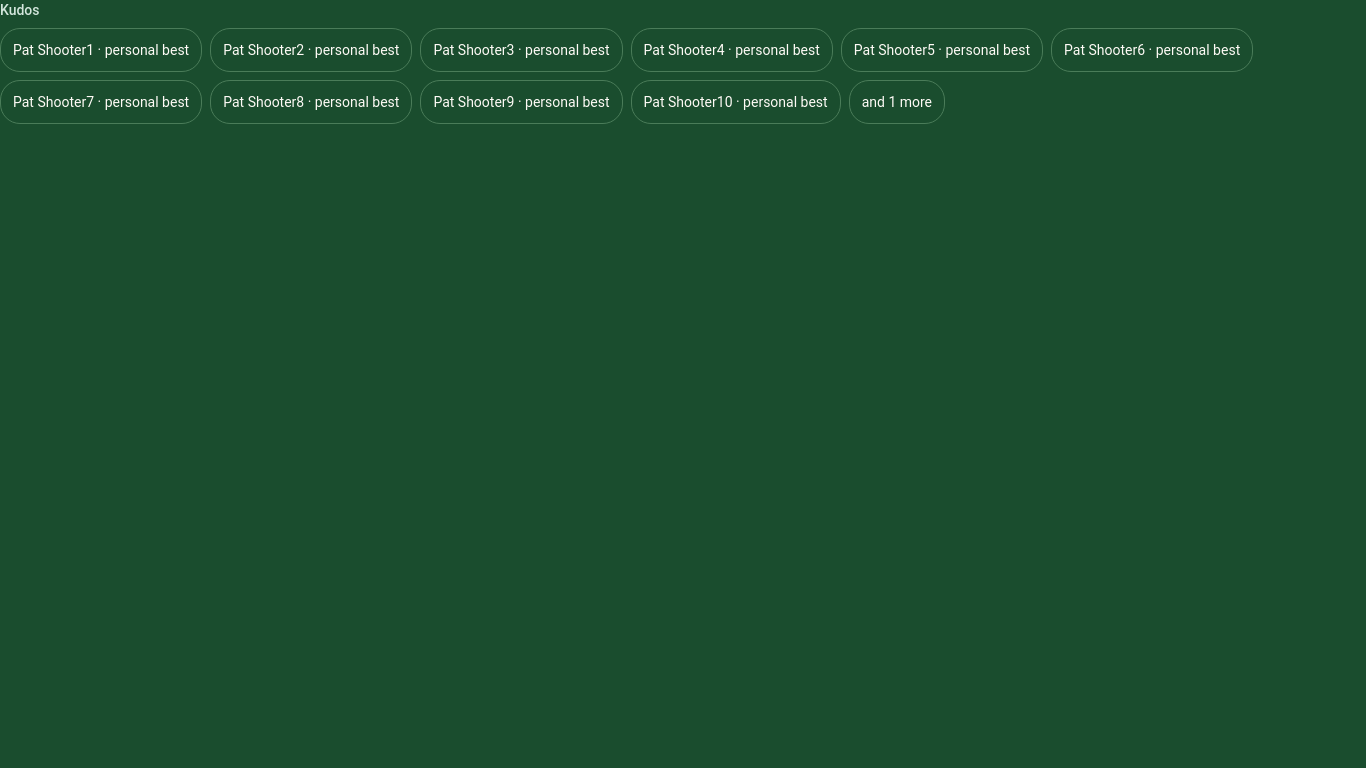
Scenario: KudosStrip › closes the full list
The width and height of the screenshot is (1366, 768).
Click the button "and 1 more": coordinates (897, 102) [849,80,945,124]
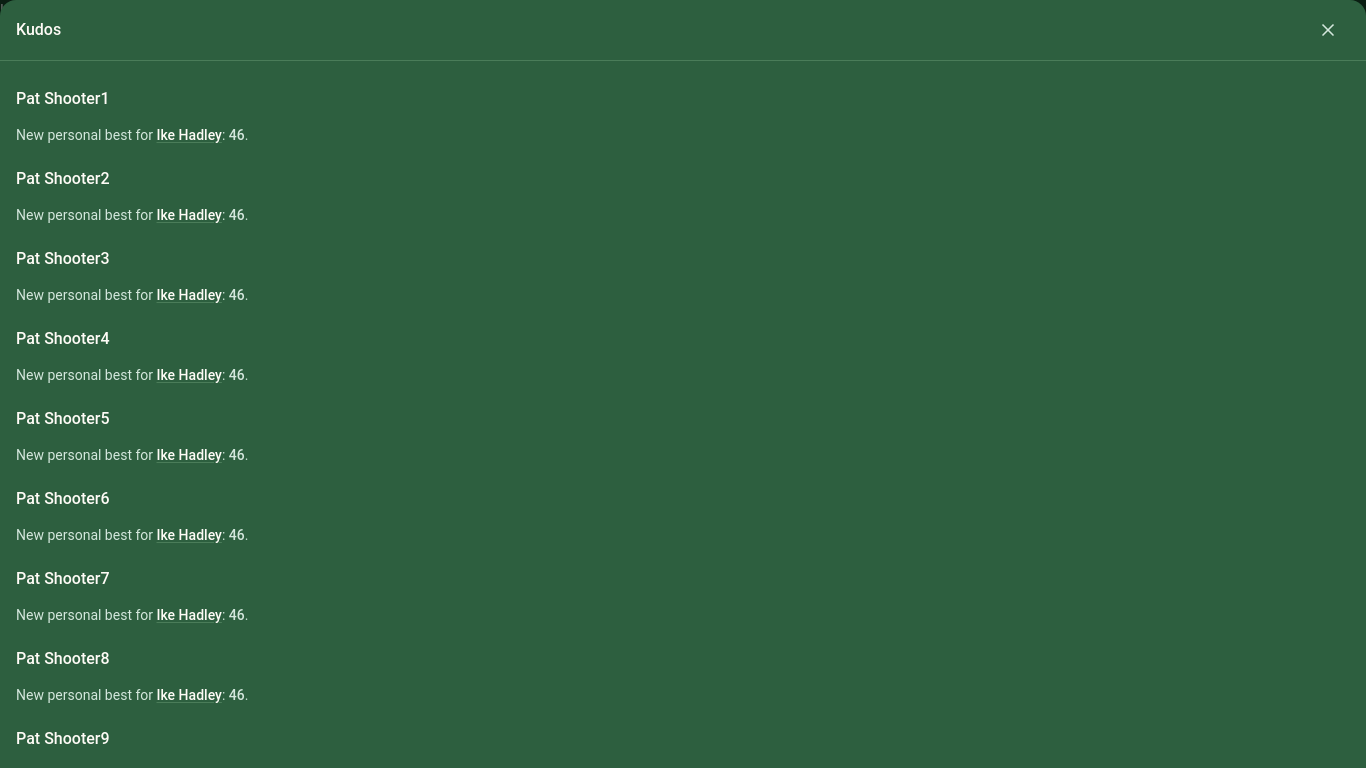
Press Escape
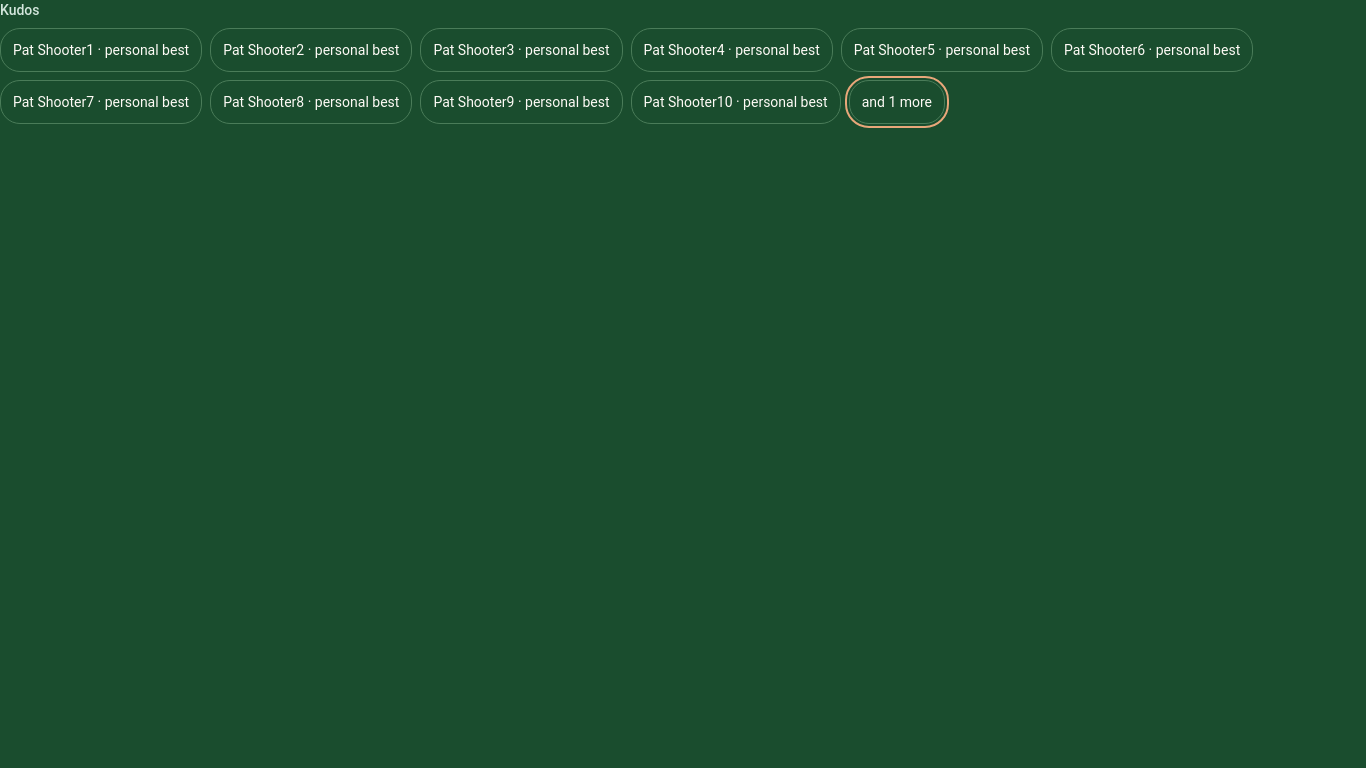
Check: the dialog is gone
